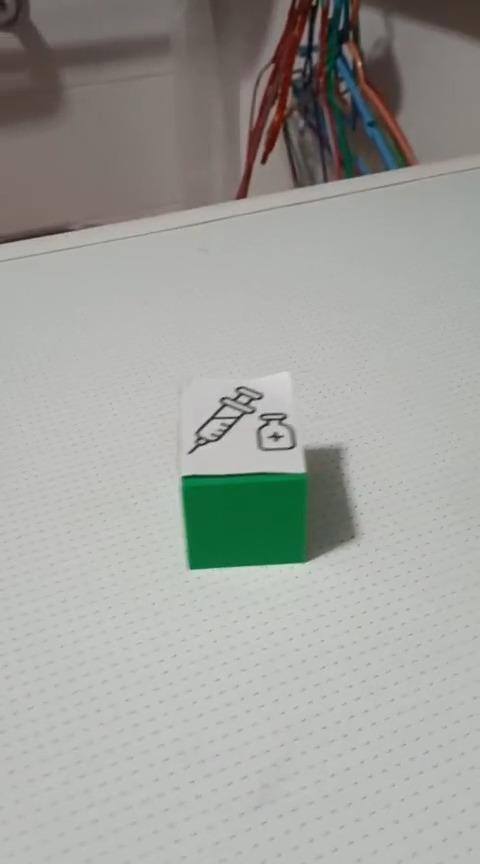antiseptic cream: (175, 369, 309, 570)
